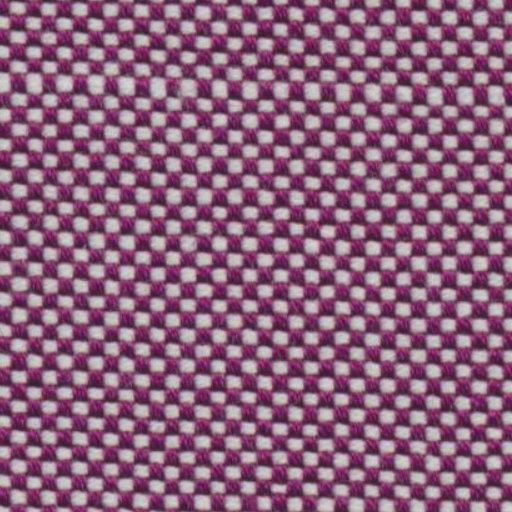TuoSha: (8, 48, 500, 124)
